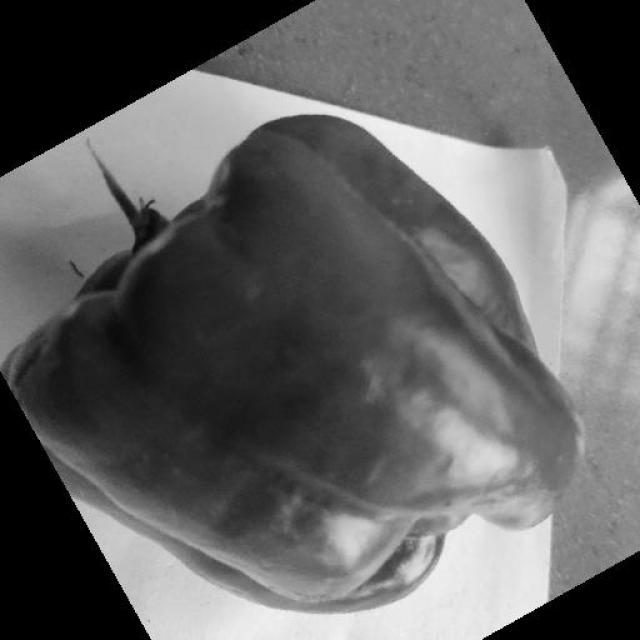Stale_Capsicum: (0, 142, 583, 570)
